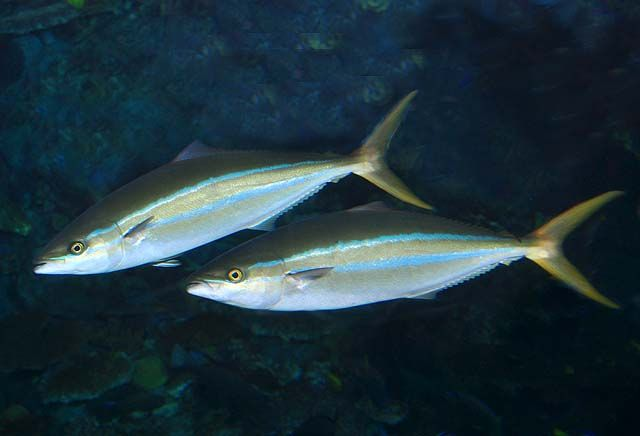fish: (34, 89, 433, 275), (186, 190, 624, 309)
